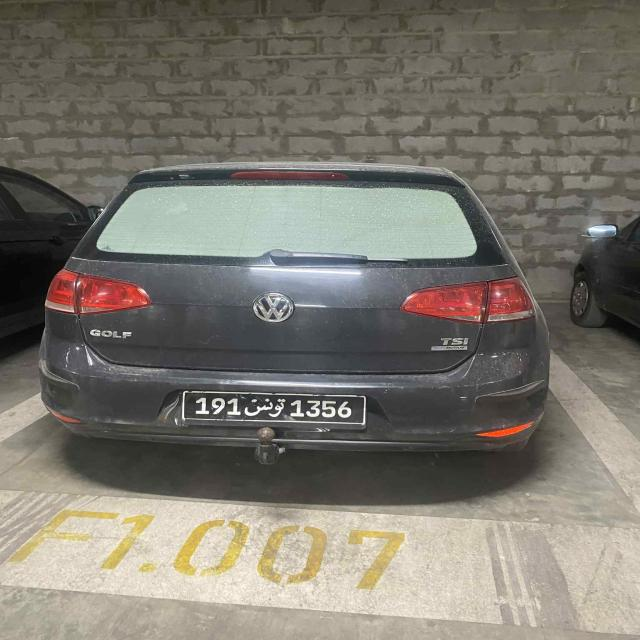licence plate: (183, 394, 363, 423)
